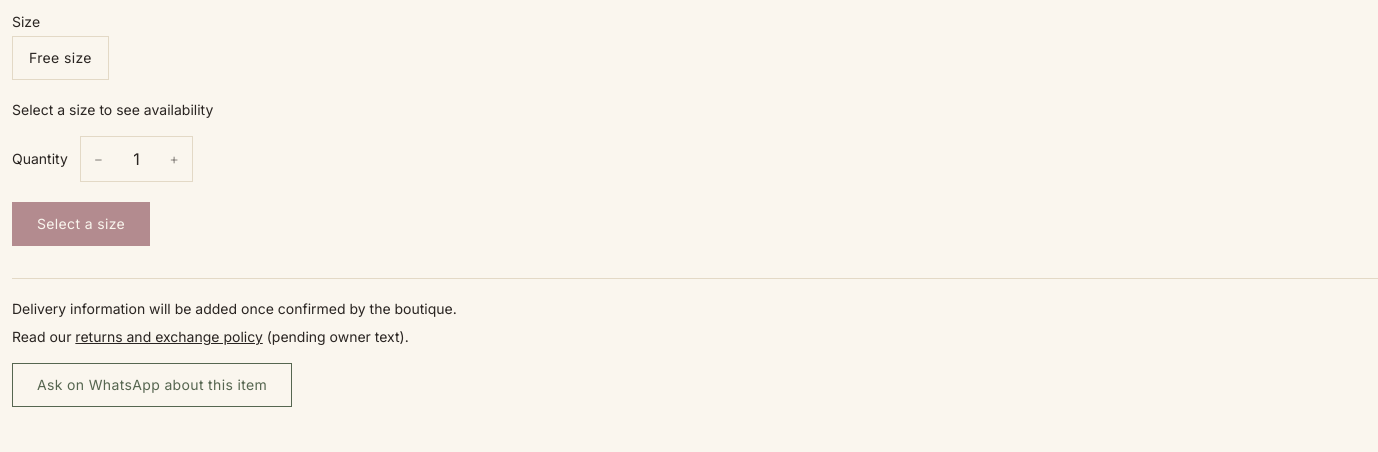
variant selection › add to cart enforces remaining stock after adding
Click the button "Free size": point(60, 58) [12,36,109,80]
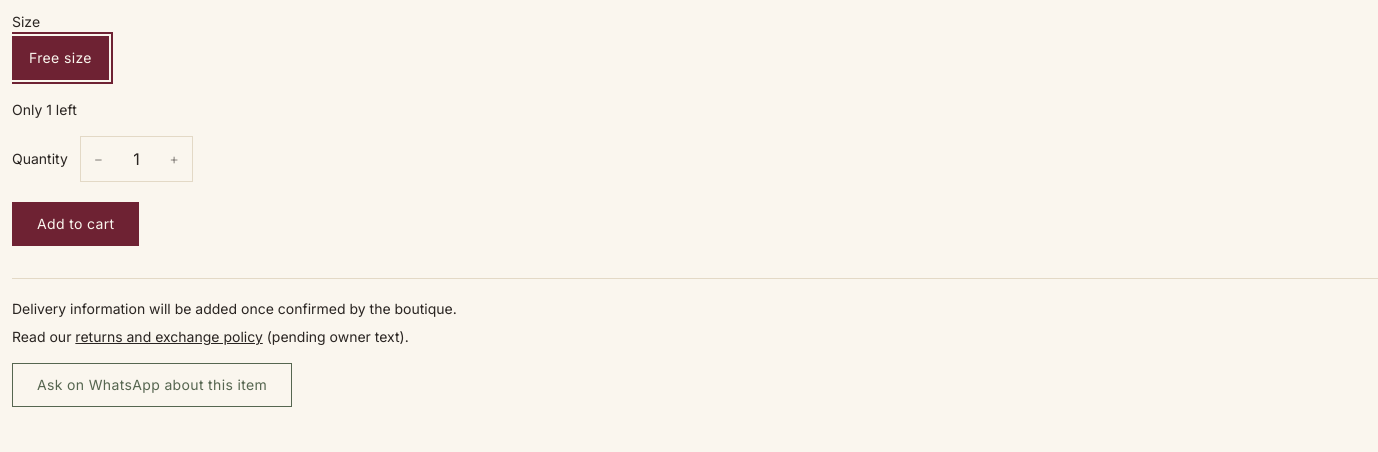
Click the button "Add to cart": point(76, 224) [12,202,139,246]
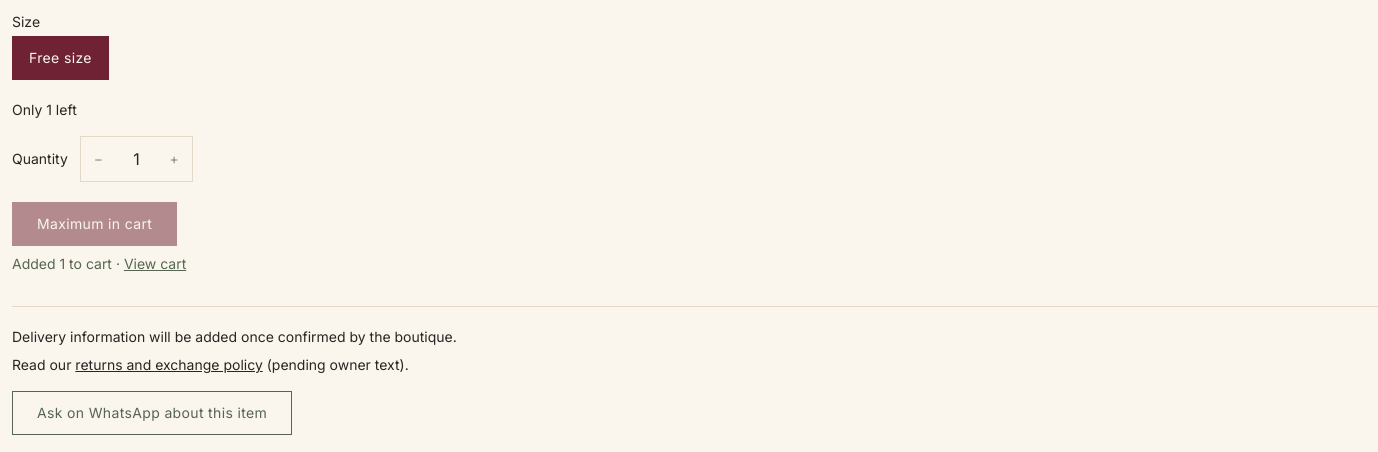
Result: the button "Maximum in cart" is disabled at [12,202,177,246]
